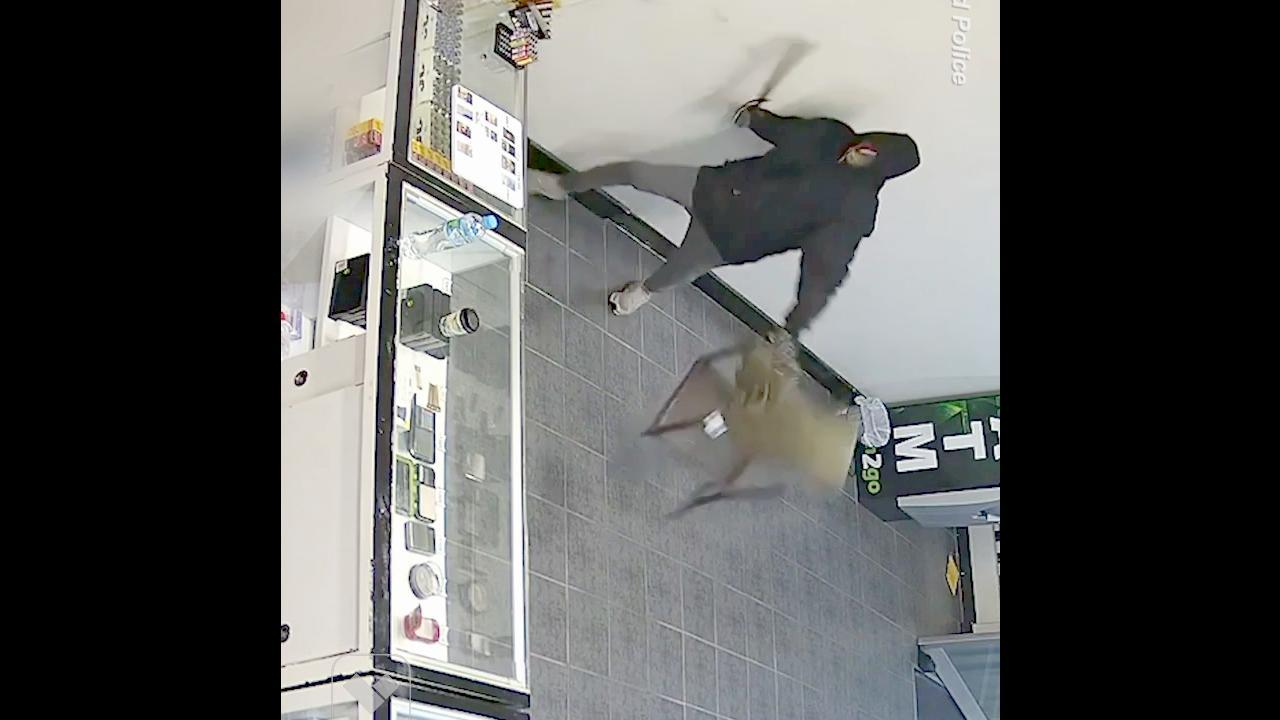melee: (740, 29, 815, 120)
